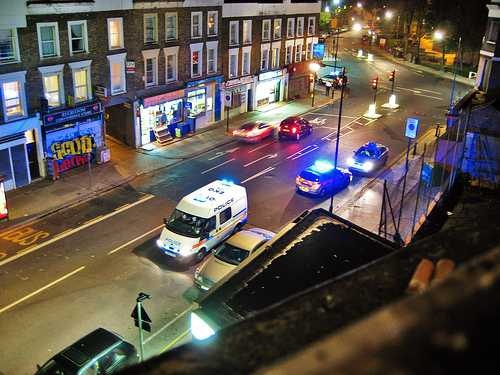Ambulance: (145, 172, 258, 265)
